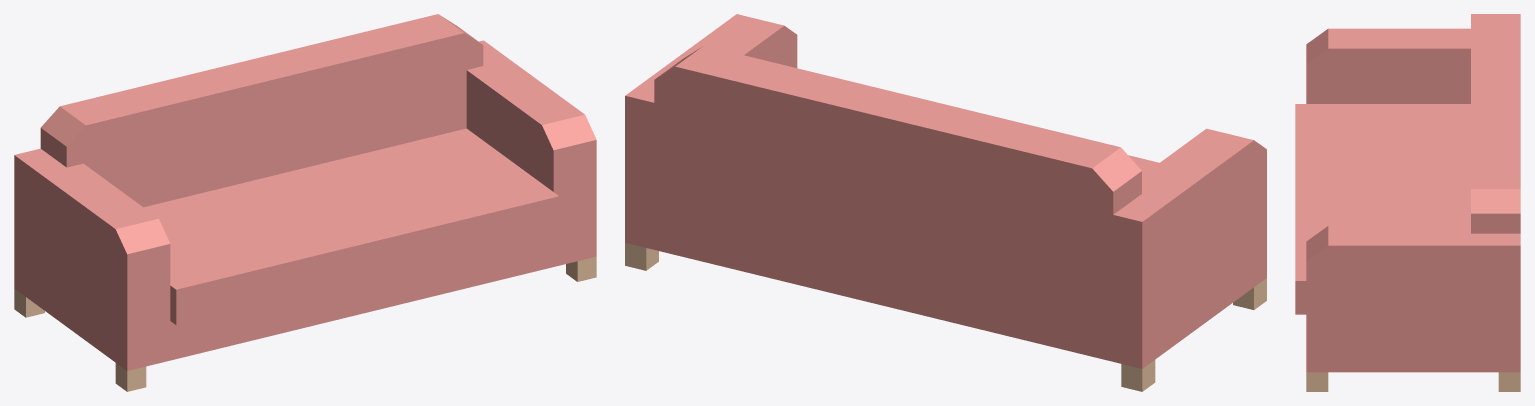
Rendered from kenney-loungeSofa.glb.
The picture shows the model from 3 angles, left to right: view 1: azimuth 30°, elevation 25°; view 2: azimuth 150°, elevation 25°; view 3: azimuth 270°, elevation 25°; orthographic projection. The views are drawn at different scales.
Parts seen in each view (by area): view 1: loungeSofa(Clone); view 2: loungeSofa(Clone); view 3: loungeSofa(Clone).
Part boxes in pixels (x1,y1,x2,y2): loungeSofa(Clone): (14,14,596,391); loungeSofa(Clone): (625,14,1266,391); loungeSofa(Clone): (1295,14,1520,391).
Bounding box in the file's own units: 2.1 × 0.82 × 0.92.
